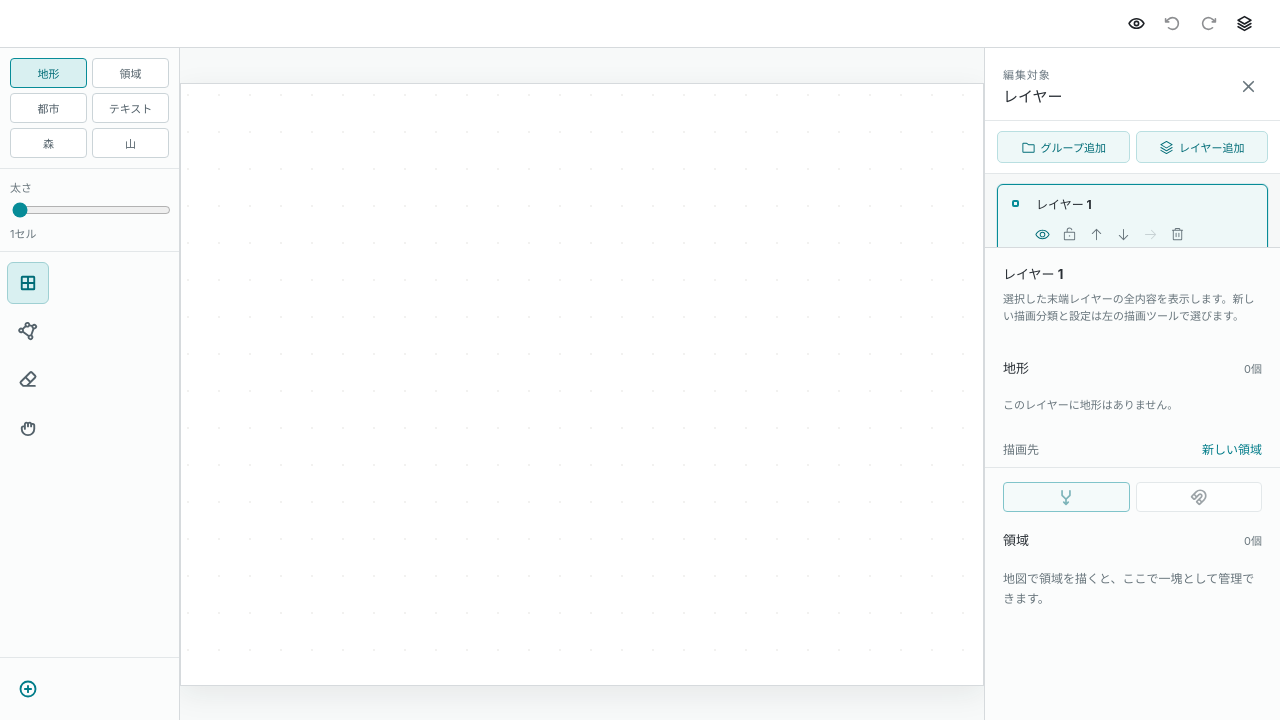
Test case: keeps the current world when creating a new world fails
The width and height of the screenshot is (1280, 720).
Click the button named "新規作成": (28, 689) [7, 668, 49, 710]
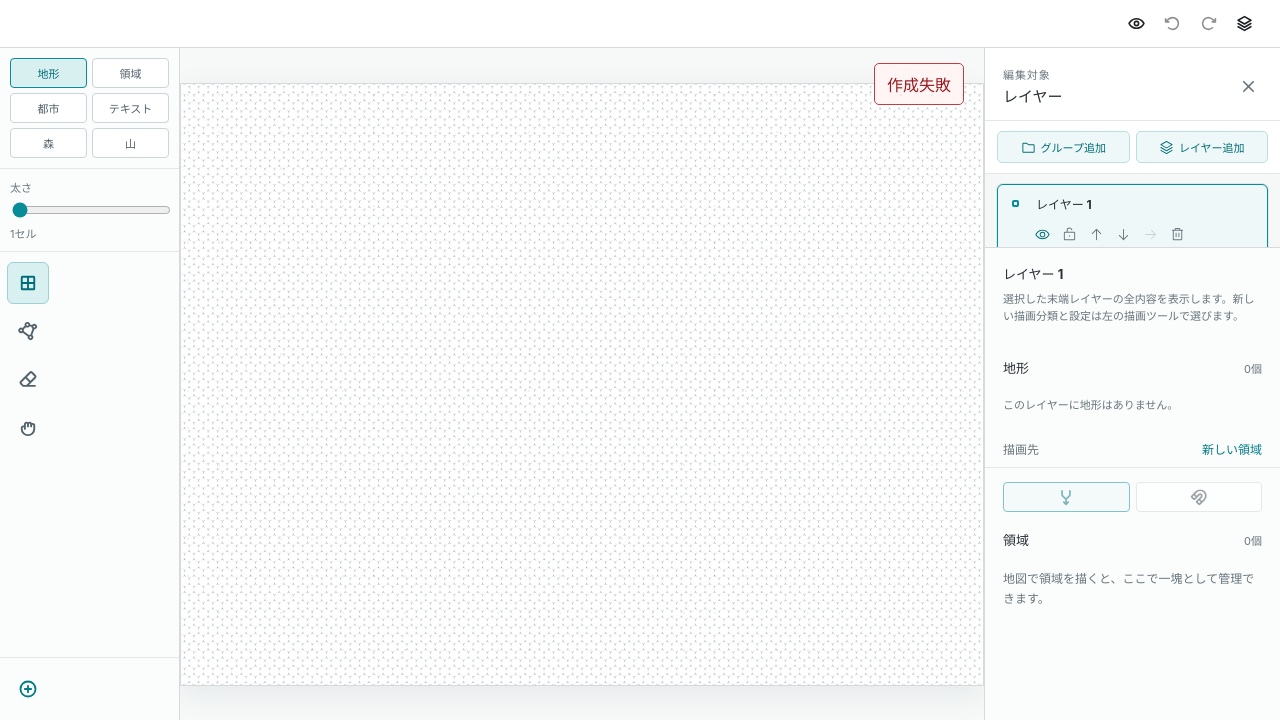
Now the message "作成失敗" is shown, box [874, 63, 964, 105]
